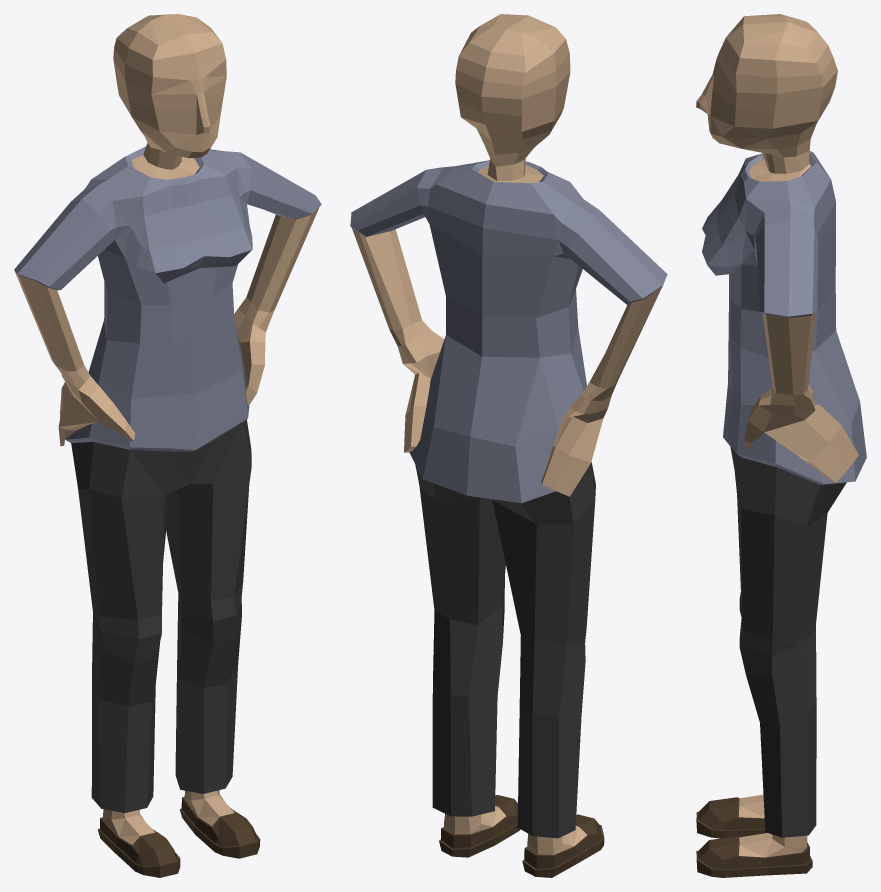
The model's file is Female_Standing_Hips.glb.
3 views of the same model, side by side, from view 1: azimuth 30°, elevation 25°; view 2: azimuth 150°, elevation 25°; view 3: azimuth 270°, elevation 25° (orthographic).
Visible parts, largest first — view 1: Female_Standing_Hips; view 2: Female_Standing_Hips; view 3: Female_Standing_Hips.
Boxes of the visible parts, x1,y1,x2,y2 form: Female_Standing_Hips: (14, 14, 321, 877); Female_Standing_Hips: (350, 14, 667, 877); Female_Standing_Hips: (696, 14, 866, 877).
Bounding box in the file's own units: 1.44 × 3.72 × 0.6972.
